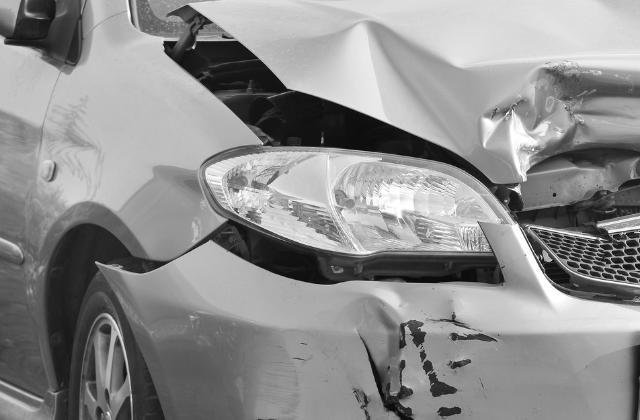Bonnet: (166, 0, 640, 301)
Bumper: (101, 219, 640, 420)
